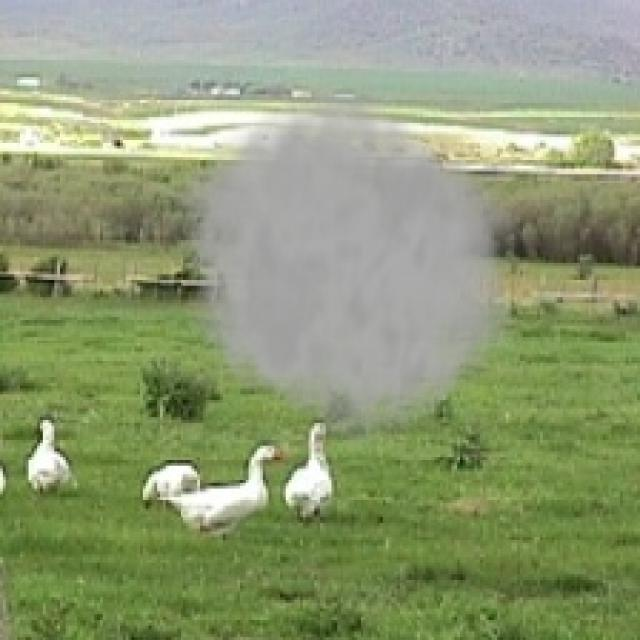smoke: (166, 77, 520, 460)
